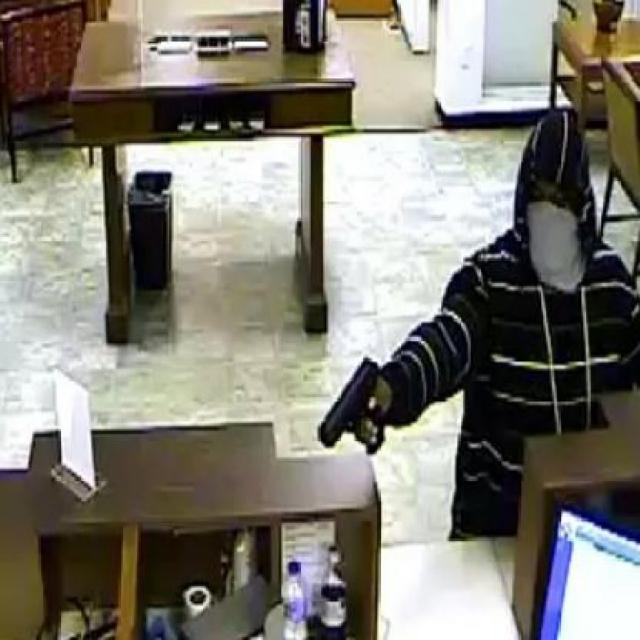weapon: (309, 342, 402, 458)
